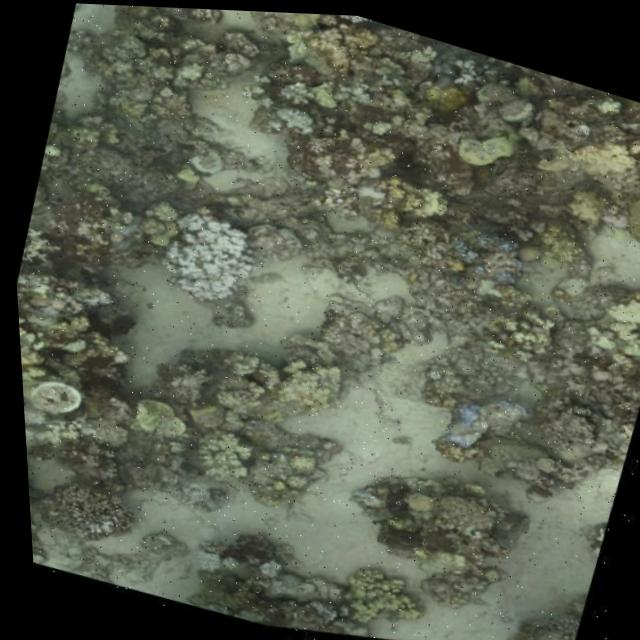Bleached Coral: (126, 179, 273, 327), (260, 88, 329, 148), (267, 61, 330, 110), (328, 11, 391, 37), (22, 467, 43, 512)
